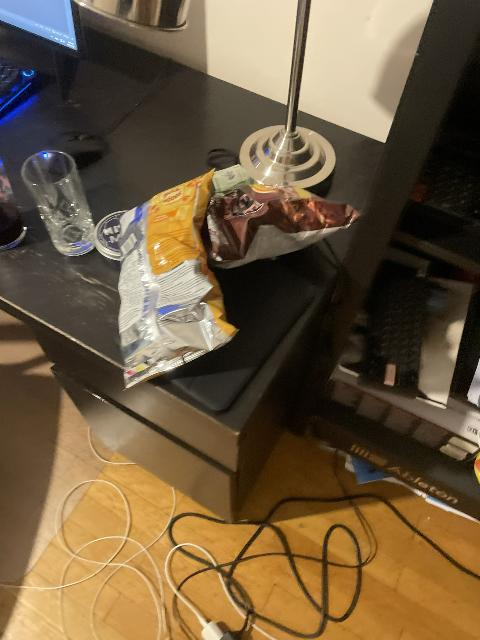Chio Hula Hoops Cheese 70g: (109, 175, 236, 390)
Lays Beef Grilled Ribs 125g: (205, 182, 359, 268)
